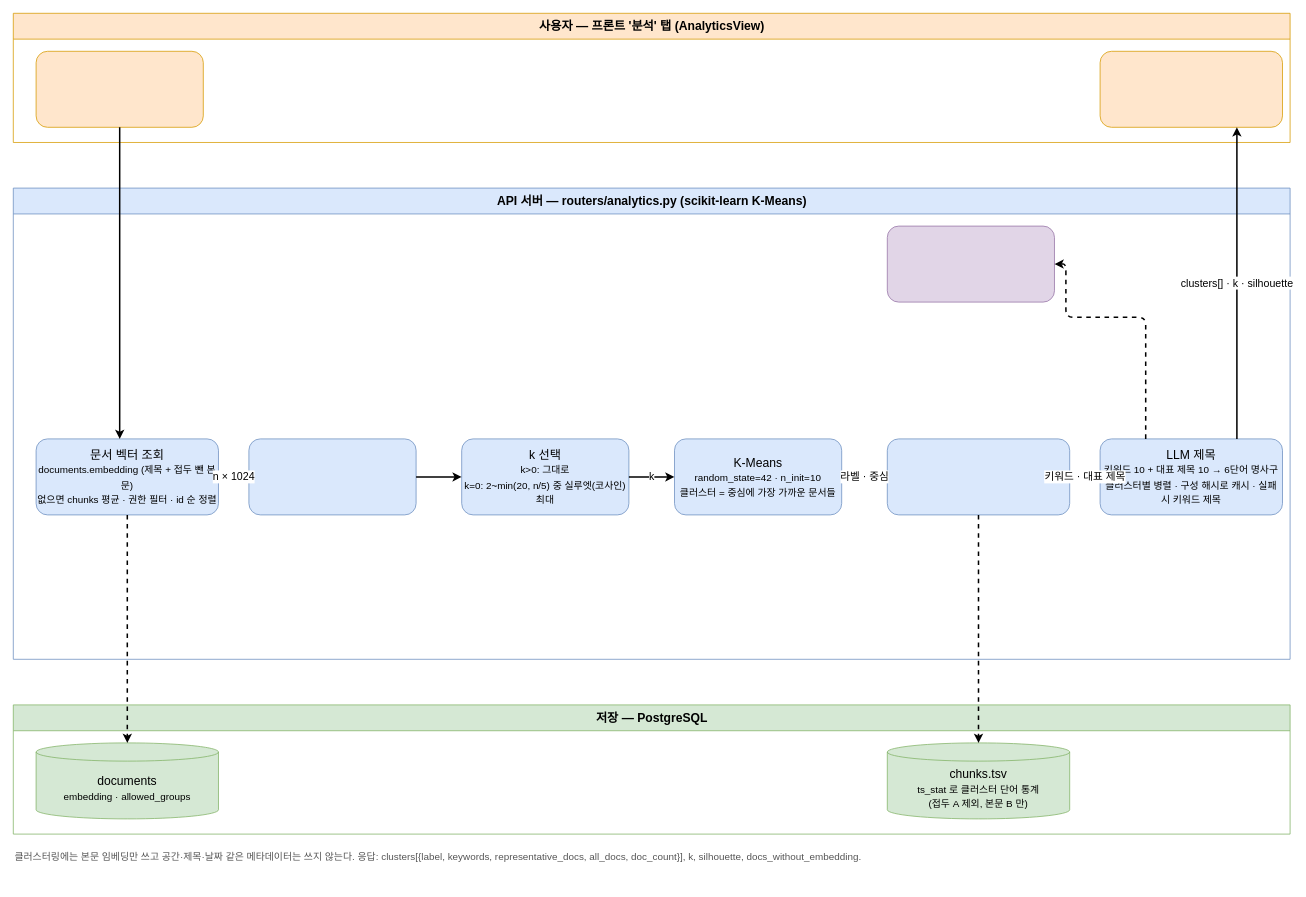
The diagram is 1306 pixels wide and 897 high, and some of its shapes have lost their labels. Here are the shapes that lost their labels. From the top down, the centre of each, then its label:
At pixel 119 89: "분석 버튼 GET /admin/clusters?k=0&llm=true k=0 자동 · 숫자면 그 개수".
At pixel 1190 89: "원형 패킹 차트 + 문서 목록 원 크기 = 문서 수 · 제목 = LLM 라벨 클릭 → 오른쪽 목록 20건씩 페이징".
At pixel 970 263: "제목 LLM answer.chat() · max_tokens 60 llm=false 면 호출 안 함".
At pixel 332 476: "정규화 벡터 길이를 1로 → 유클리드 K-Means 가 코사인 기준과 같아짐".
At pixel 978 476: "클러스터별 정리 대표 문서: 중심 근접 순, 페이지 중복 제거 키워드: 본문(B) TF-IDF 상위 10 (10분 캐시)".
